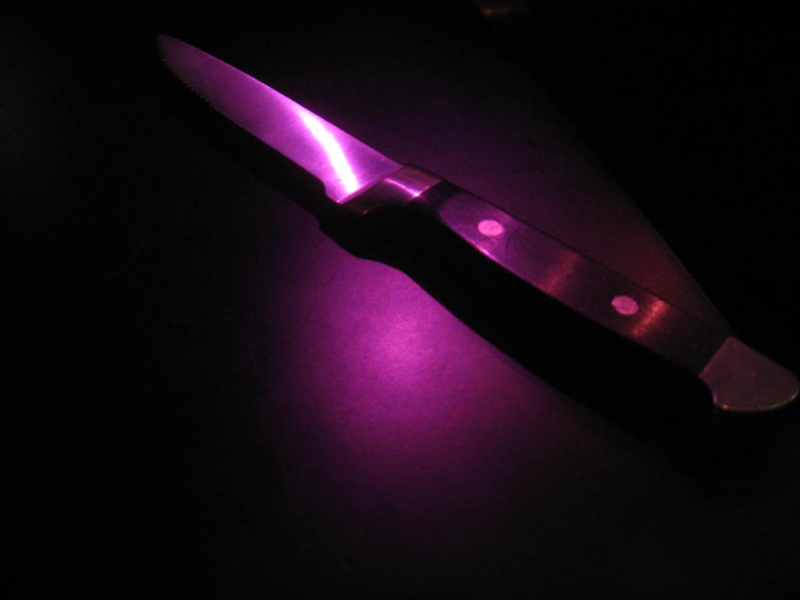knife: (136, 24, 800, 430)
